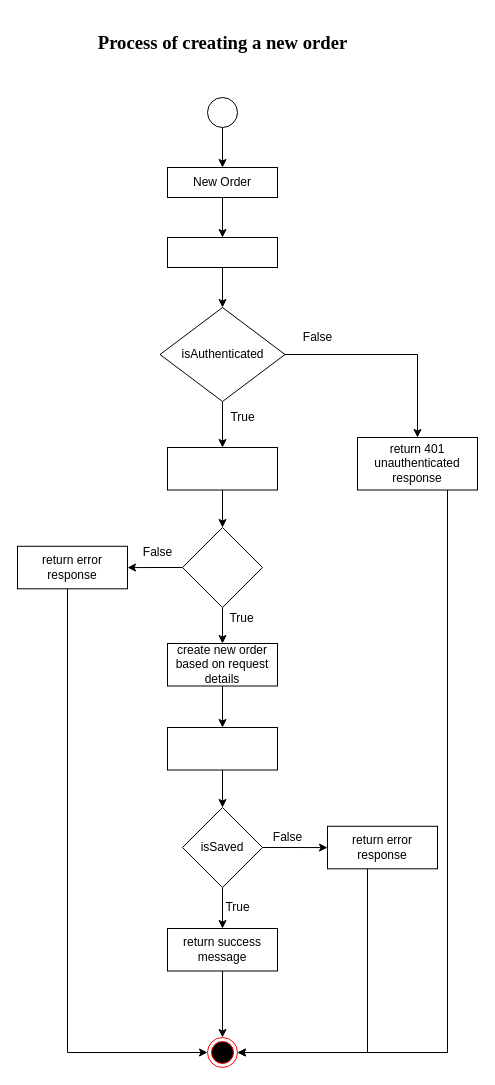
Some shapes in this 495 by 1085 pixel diagram are drawn without their labels. Each missing label, with the centre of its shape:
"ESB" goes at (x=222, y=252).
"isValid" goes at (x=222, y=567).
"save order" goes at (x=222, y=748).
"validate request body and products" goes at (x=222, y=468).
